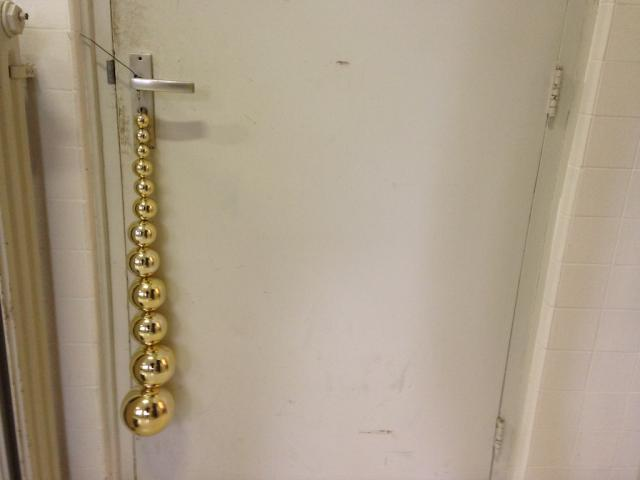Door-handle: (127, 54, 197, 156)
